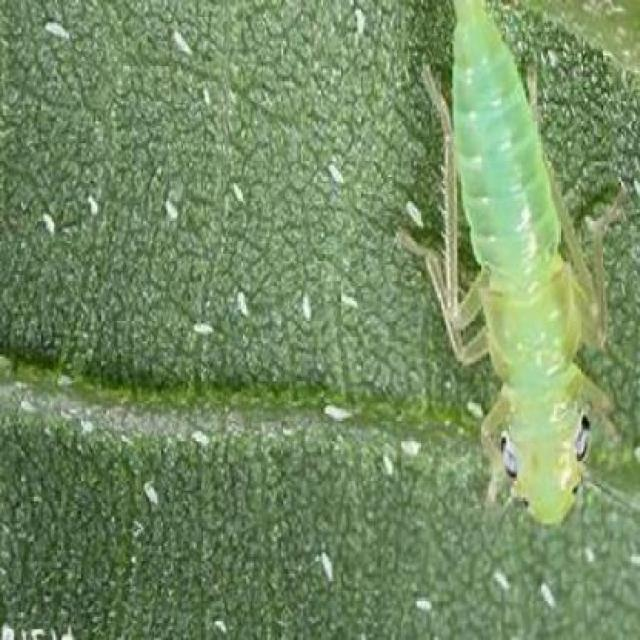green-leafhopper: (440, 2, 608, 523)
